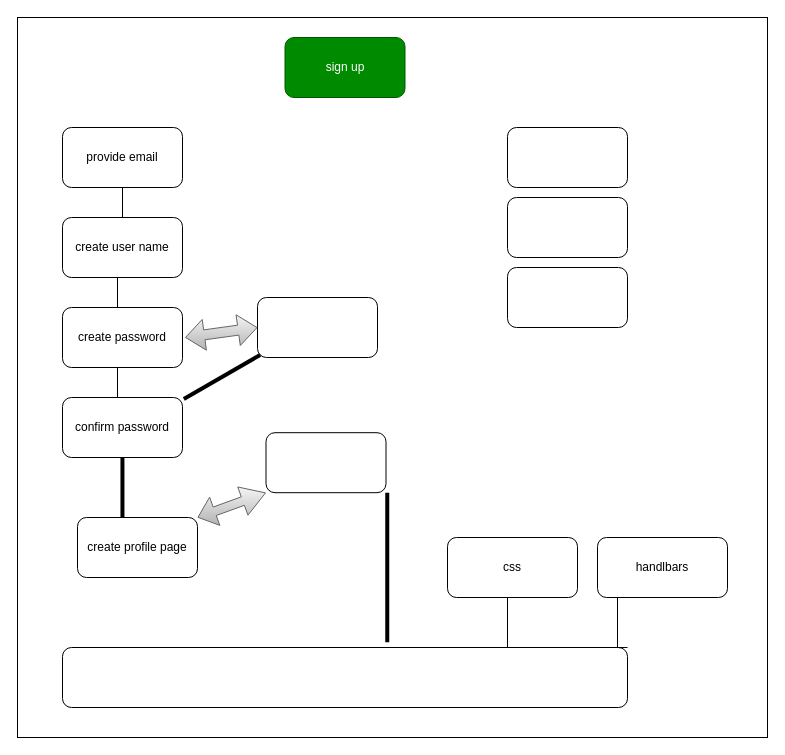
The diagram is 785 pixels wide and 755 high, and some of its shapes have lost their labels. Each missing label, with the box of its shape:
direct to main: (265, 432, 386, 493)
html: (62, 646, 628, 708)
if failed fix pw: (256, 296, 378, 358)
